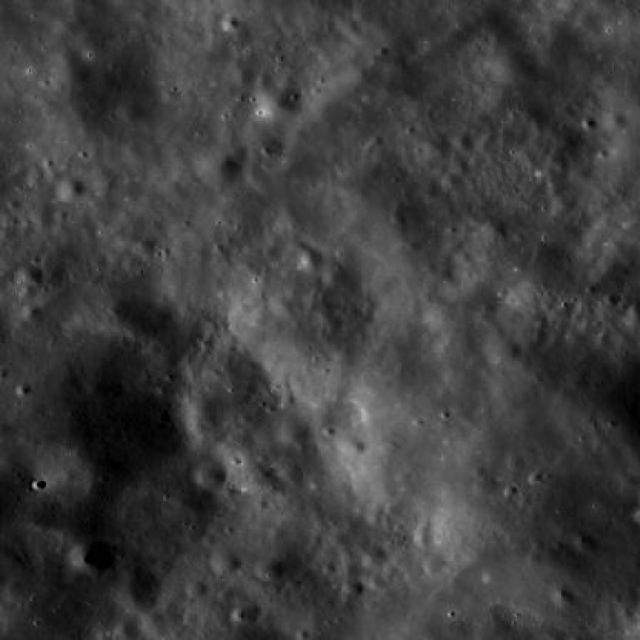crater: (1, 22, 157, 161), (222, 238, 370, 368), (215, 416, 302, 492), (252, 74, 310, 124), (488, 44, 542, 92), (180, 390, 233, 436), (242, 116, 293, 161), (591, 238, 640, 284), (197, 150, 246, 193), (114, 572, 160, 610), (72, 535, 115, 574), (529, 243, 565, 274), (193, 457, 227, 488), (278, 417, 312, 446), (418, 131, 450, 160), (296, 248, 329, 276), (492, 338, 522, 366), (358, 542, 388, 568), (87, 166, 116, 192), (56, 174, 84, 200), (50, 15, 78, 40), (255, 555, 283, 580), (228, 62, 255, 87), (481, 219, 508, 244), (140, 614, 168, 638), (212, 552, 240, 574), (27, 204, 53, 227), (16, 263, 42, 286), (279, 462, 304, 484), (116, 616, 141, 638), (604, 112, 628, 134), (318, 260, 342, 282), (340, 18, 363, 38), (454, 132, 477, 152), (474, 476, 497, 496), (136, 236, 159, 256), (185, 578, 208, 598), (554, 196, 576, 216), (236, 601, 258, 621), (448, 155, 470, 174), (246, 164, 268, 183), (575, 533, 597, 552), (218, 13, 239, 32), (554, 588, 576, 606), (346, 438, 366, 456), (528, 114, 548, 132), (253, 72, 272, 90), (158, 84, 178, 101), (414, 530, 432, 548), (346, 578, 364, 596), (351, 536, 371, 552), (442, 170, 460, 187), (290, 236, 308, 253), (507, 453, 525, 470), (340, 547, 358, 564), (19, 284, 38, 300), (23, 304, 42, 320), (1, 0, 2, 2)
